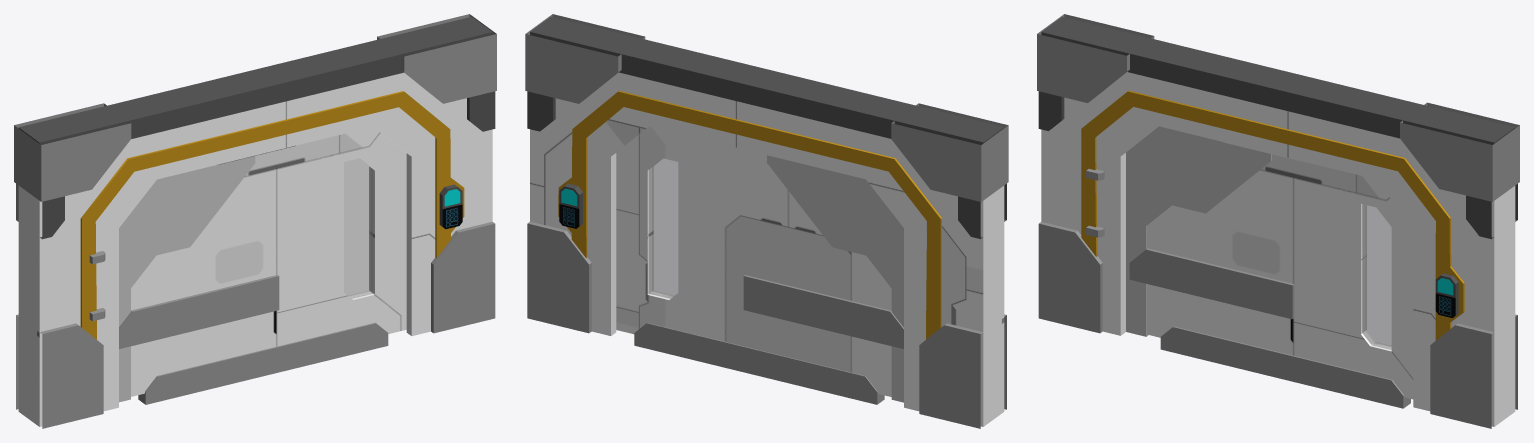
The model's file is SM_Wall_5x3_Door_1.fbx.
The picture shows the model from 3 angles, left to right: view 1: azimuth 30°, elevation 25°; view 2: azimuth 150°, elevation 25°; view 3: azimuth 330°, elevation 25°; orthographic projection.
Parts seen in each view (by area): view 1: SM_Wall_5x3_Door_1 (×2); view 2: SM_Wall_5x3_Door_1 (×2); view 3: SM_Wall_5x3_Door_1 (×2).
Part boxes in pixels (left/top/right/bottom): SM_Wall_5x3_Door_1 (×2): left=14, top=14, right=496, bottom=428; SM_Wall_5x3_Door_1 (×2): left=525, top=14, right=1008, bottom=428; SM_Wall_5x3_Door_1 (×2): left=1037, top=14, right=1519, bottom=428.
Size of the model in its own units: 503 by 311 by 58.18.
